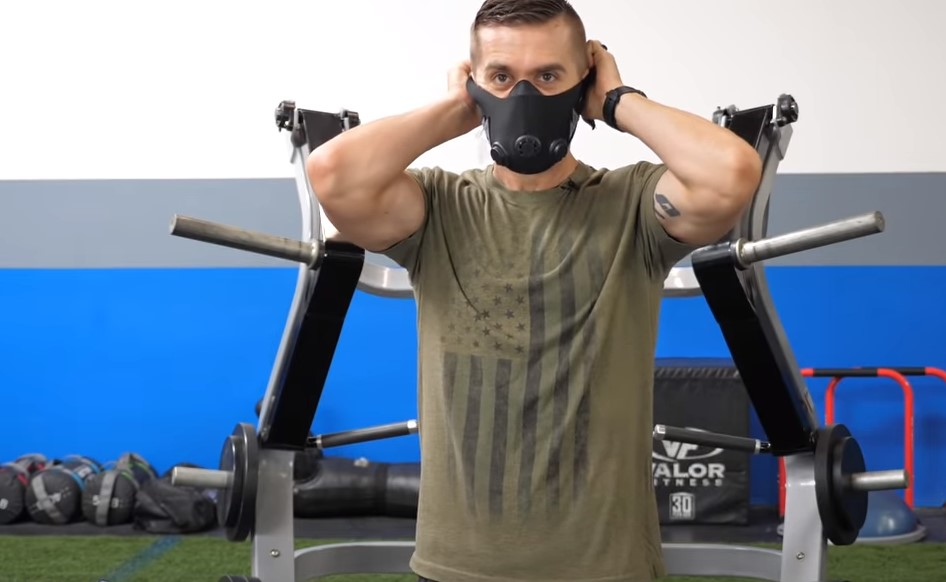face_with_mask: (462, 4, 603, 175)
